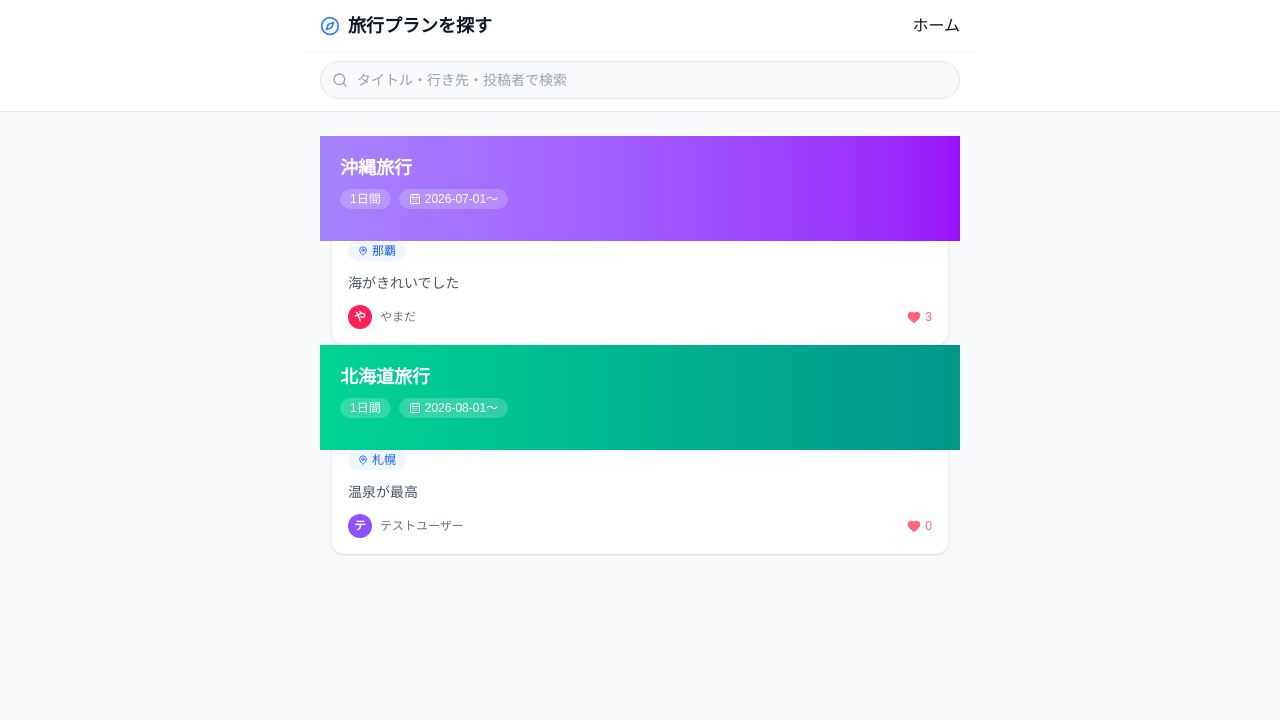
Test: FeedPage › 検索で投稿者名によるフィルタリングができる
The width and height of the screenshot is (1280, 720).
Expected: the heading "沖縄旅行" is shown, [340, 158, 412, 178]
In the field with placeholder "タイトル・行き先・投稿者で検索": coordinates (640, 80) [320, 61, 960, 99], type "やまだ"
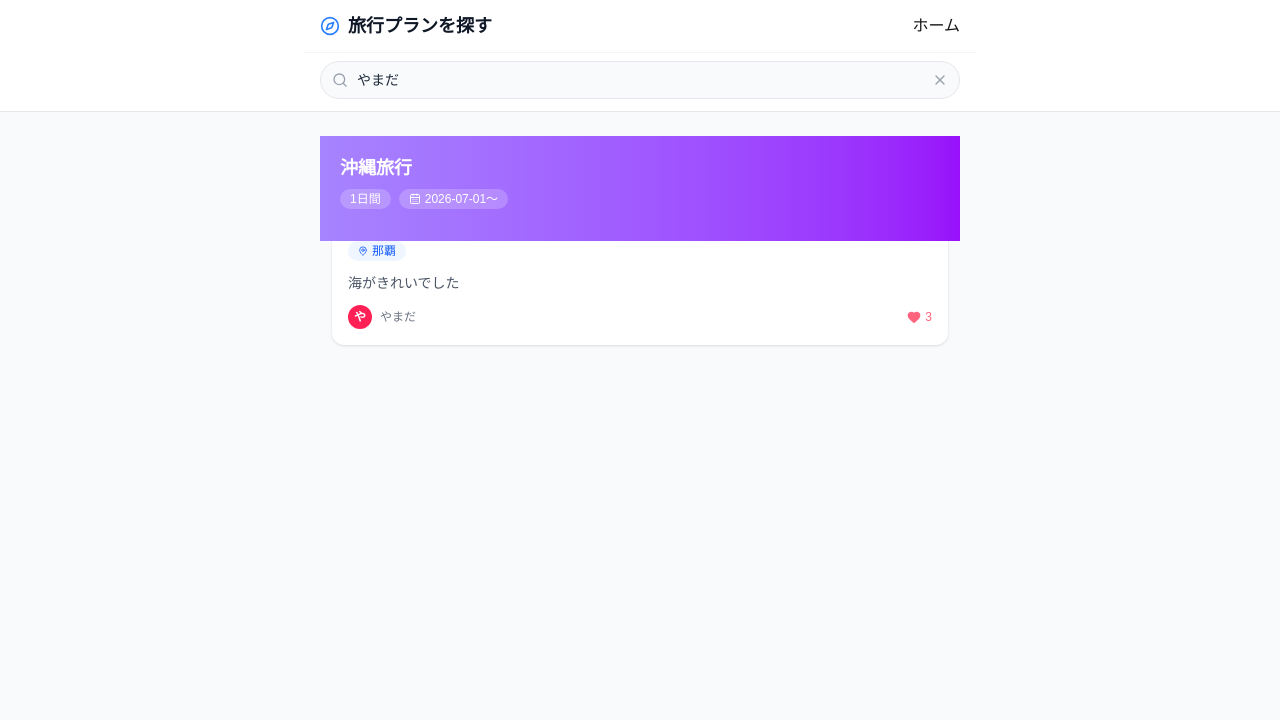
Expected: the heading "沖縄旅行" is shown, [340, 158, 412, 178]
Expected: the link "北海道旅行" is gone
